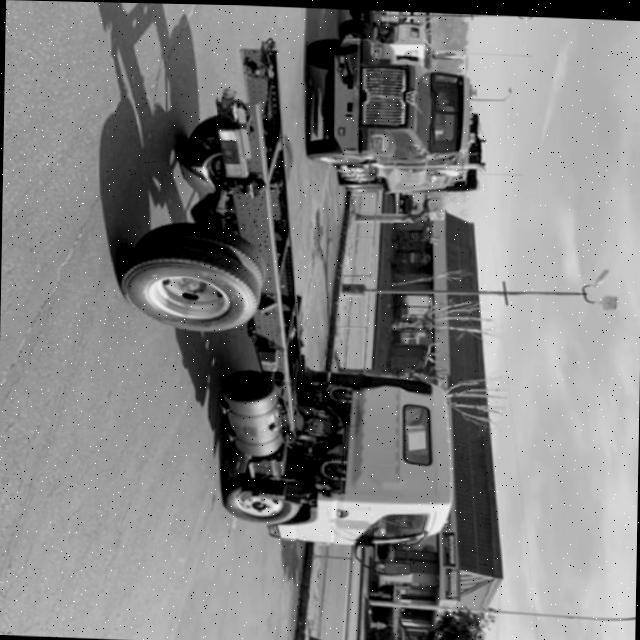truck: (97, 31, 466, 548), (305, 31, 493, 198)
